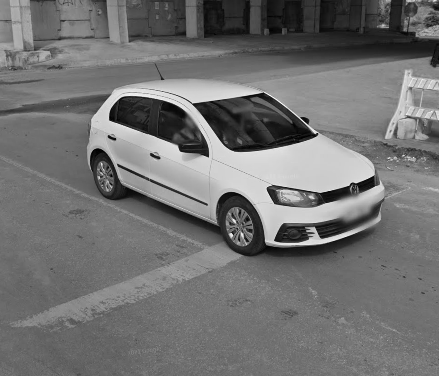car: (84, 61, 386, 256)
